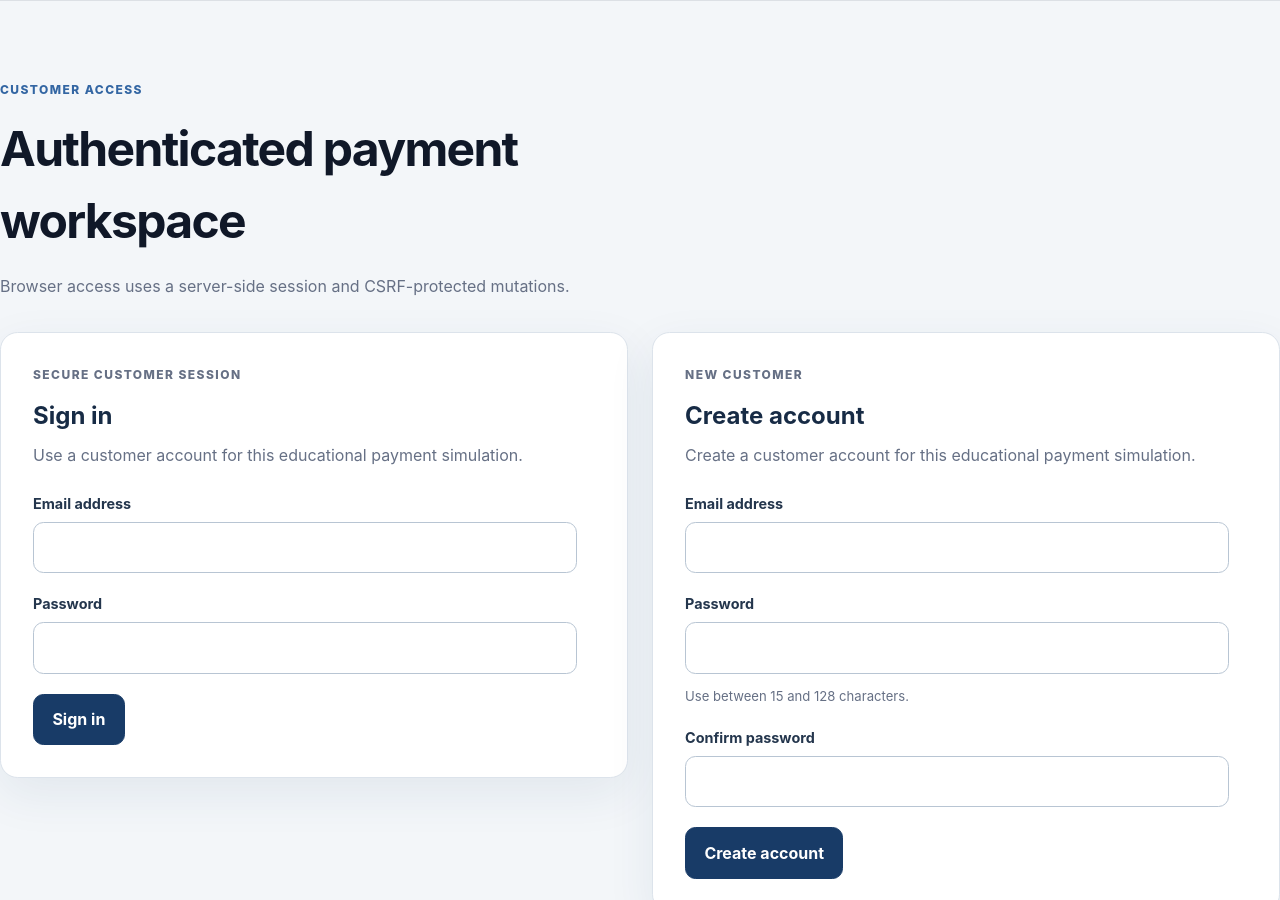
Test: SessionBoundary › shows a generic message after rejected credentials
In the field labelled "Email address" below "Secure customer session": [305, 547] box [33,522,577,573], type "sam.customer@example.com"
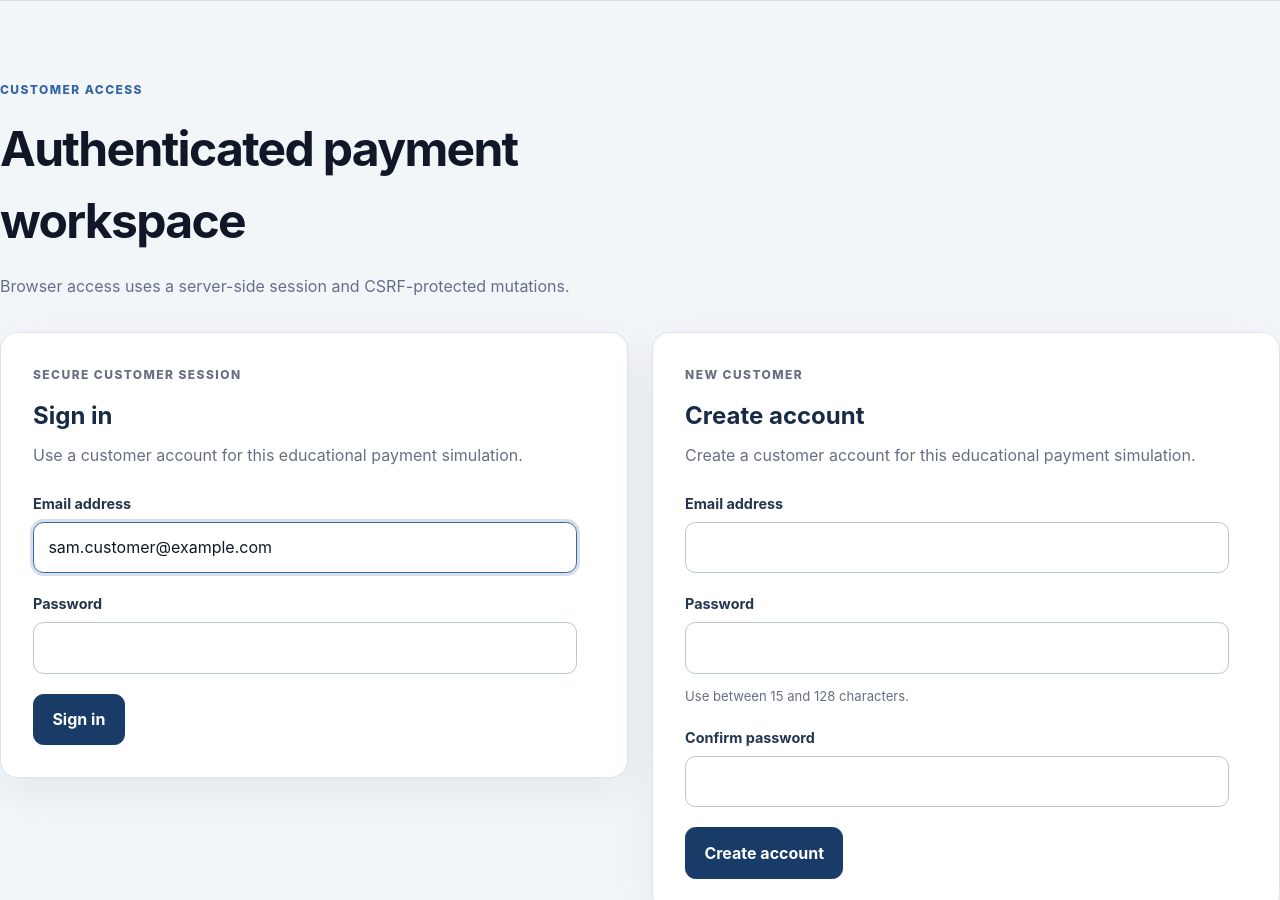
In the password field labelled "Password" below "Secure customer session": [305, 648] box [33,622,577,674], type "incorrect private password"
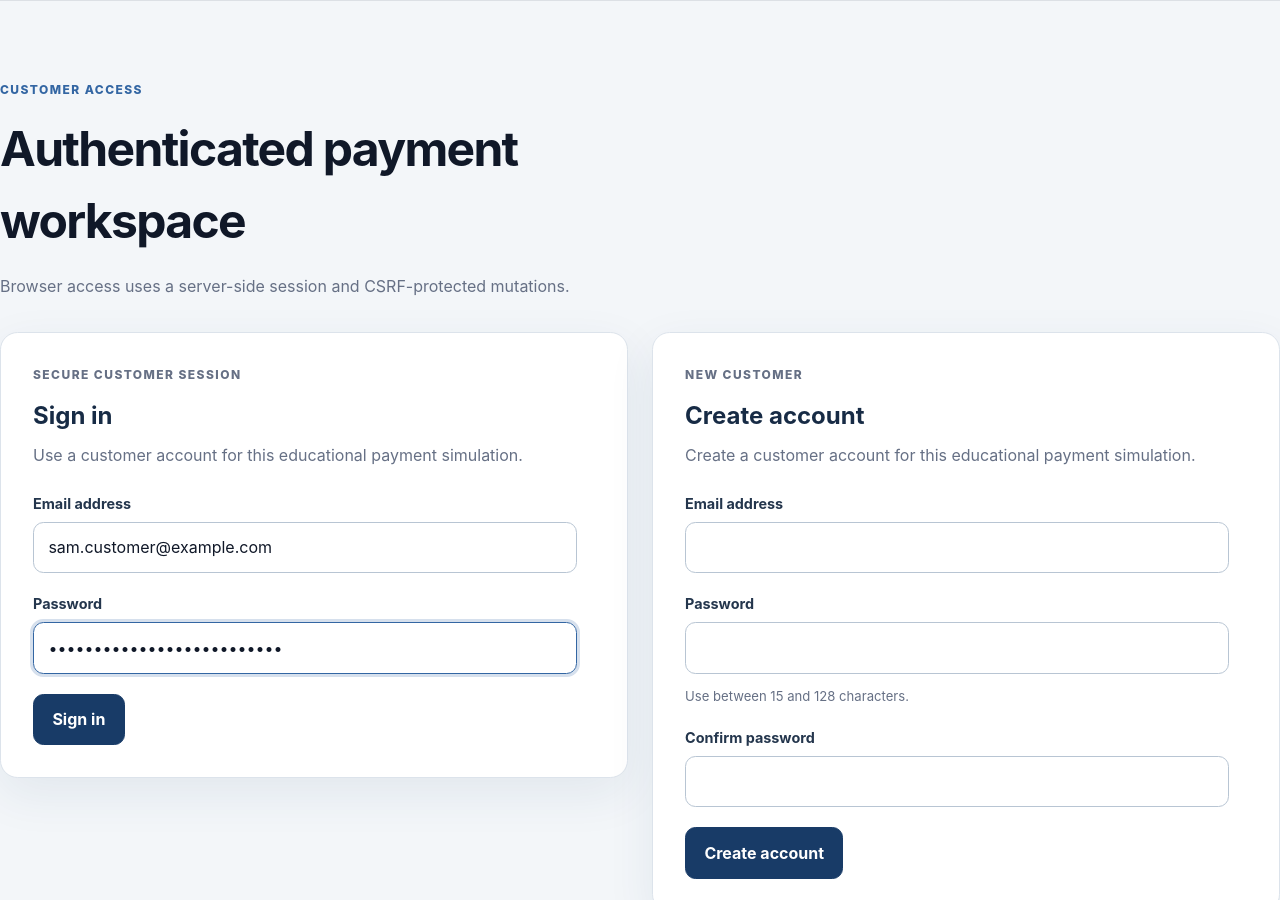
Click the button "Sign in": [79, 719] box [33,694,125,745]
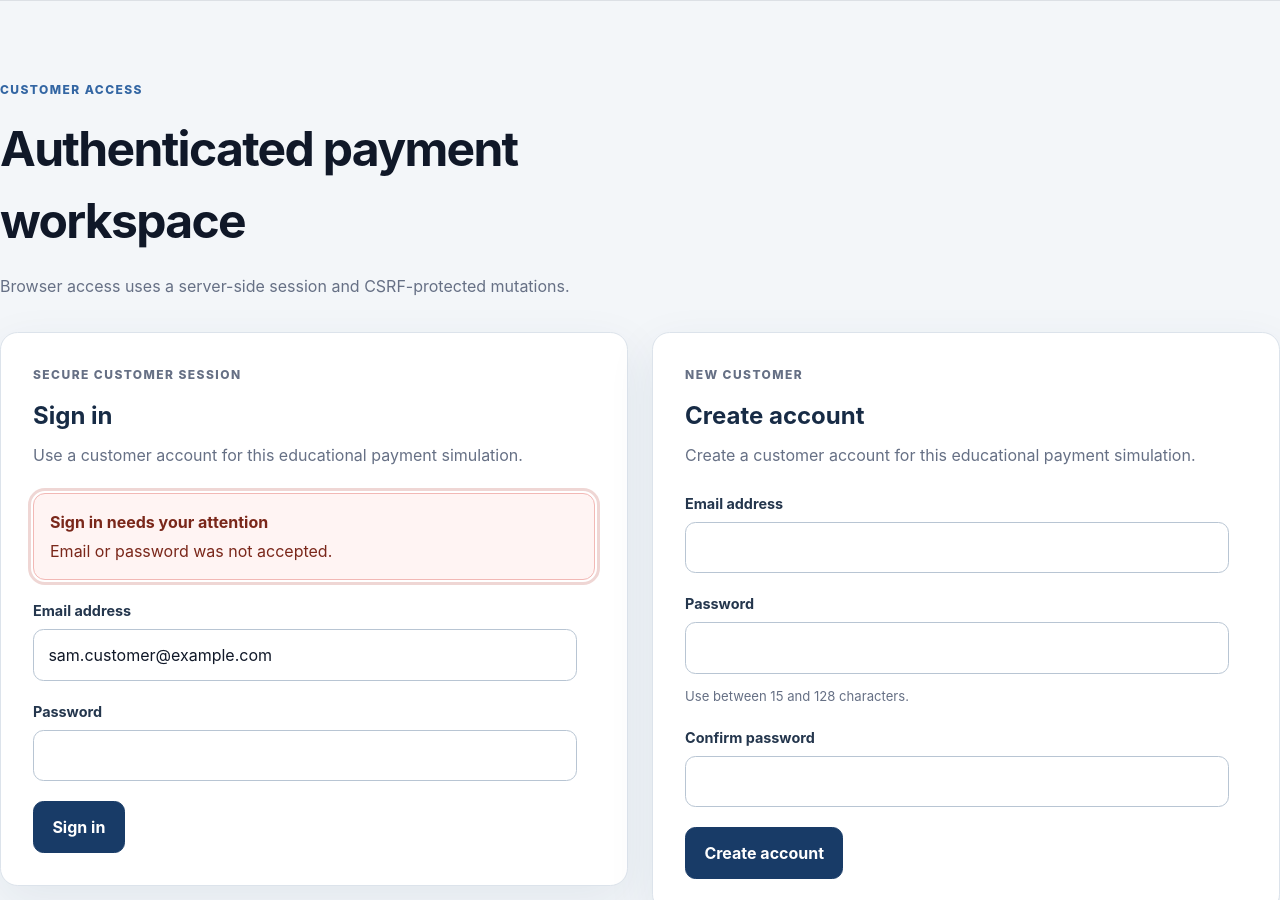
Now the message shows "Email or password was not accepted.", box [50,541,332,561]
Now the password field labelled "Password" below "Email or password was not accepted." is empty, box [33,730,577,781]
